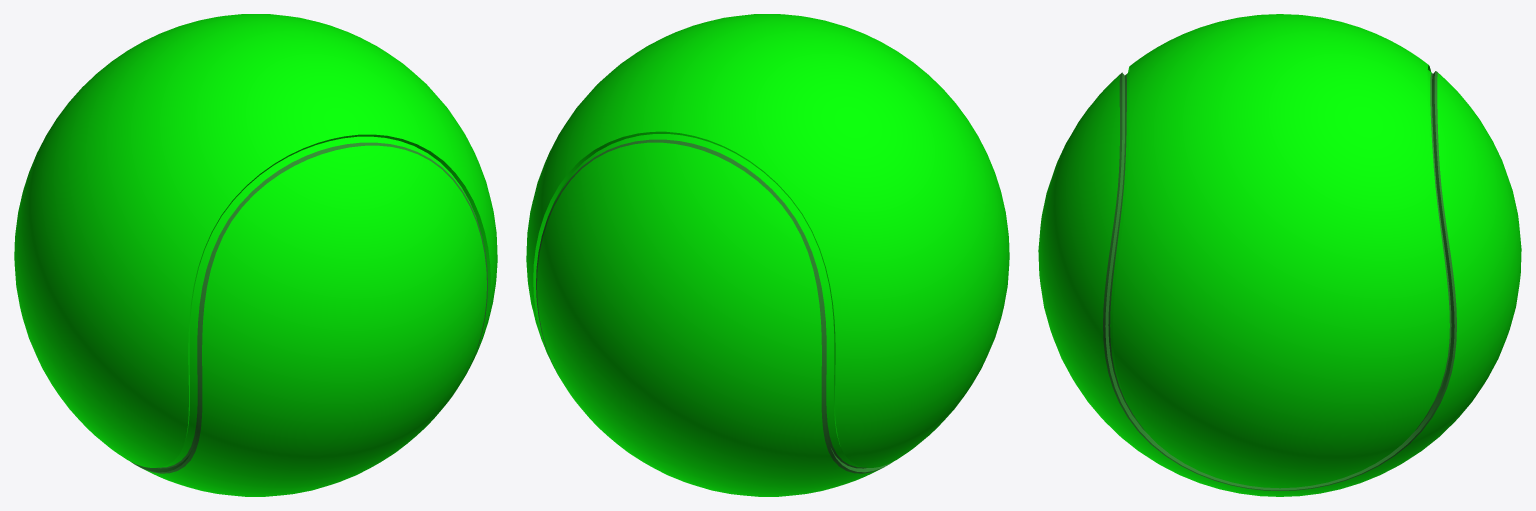
The model's file is Tennisball.fbx.
3 renders of one model, left to right at view 1: azimuth 30°, elevation 25°; view 2: azimuth 150°, elevation 25°; view 3: azimuth 270°, elevation 25°, orthographic.
Parts seen in each view (by area): view 1: pasted__pCube3; view 2: pasted__pCube3; view 3: pasted__pCube3.
Part boxes in pixels (box(x1,y1,x2,y2)): pasted__pCube3: box(14, 14, 497, 496); pasted__pCube3: box(526, 14, 1009, 496); pasted__pCube3: box(1038, 14, 1521, 496).
Size of the model in its own units: 2.2 by 2.2 by 2.2.
